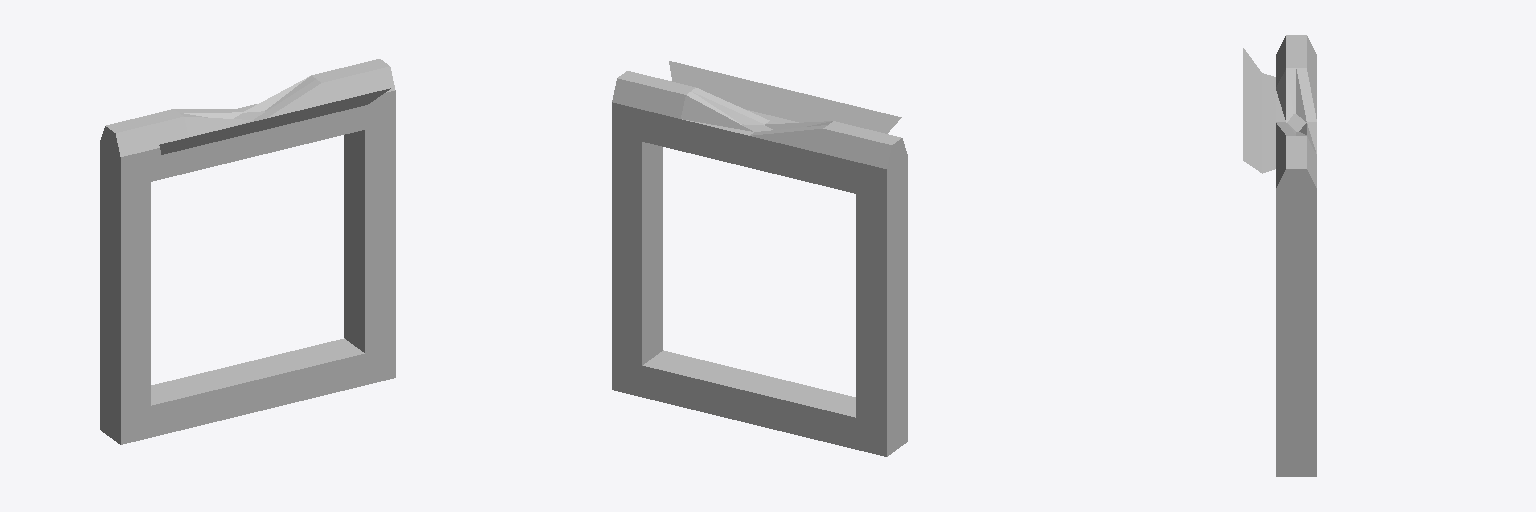
File: terminal_installer.obj
The picture shows the model from 3 angles: view 1: azimuth 30°, elevation 25°; view 2: azimuth 150°, elevation 25°; view 3: azimuth 270°, elevation 25°; orthographic projection.
Visible parts, largest first — view 1: default; view 2: default; view 3: default.
Boxes of the visible parts, <box> form: default: <box>100,59,395,444</box>; default: <box>612,61,907,456</box>; default: <box>1243,35,1316,476</box>.
Bounding box in the file's own units: 2 × 2.14 × 0.4687.